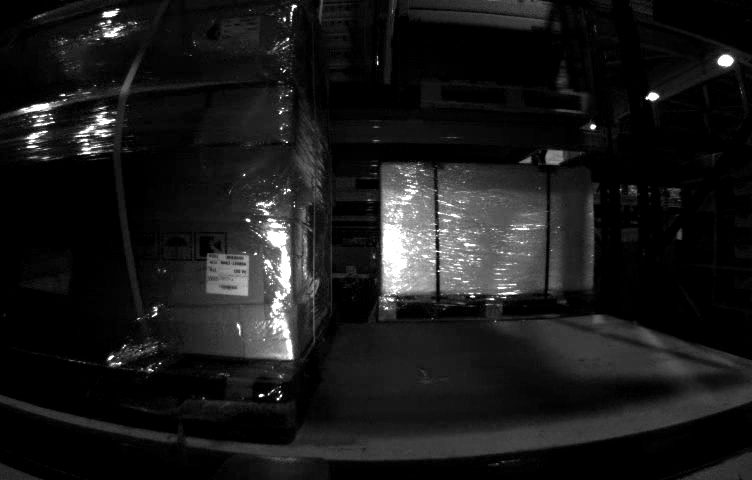True Barcode: (202, 251, 254, 299)
